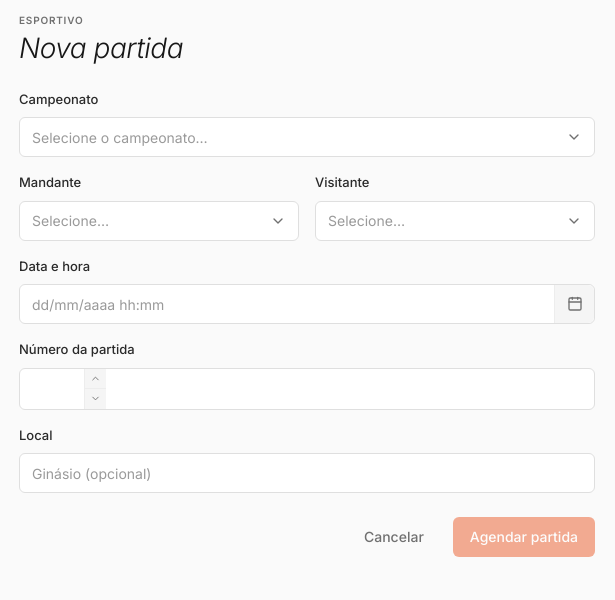
Test: MatchFormPage create › shows an inline error on both sides and disables submit when they pick the same team
This screenshot has width=615, height=600.
Click the button labelled "Selecione o campeonato…" at [120, 137], box [19,117,595,157]
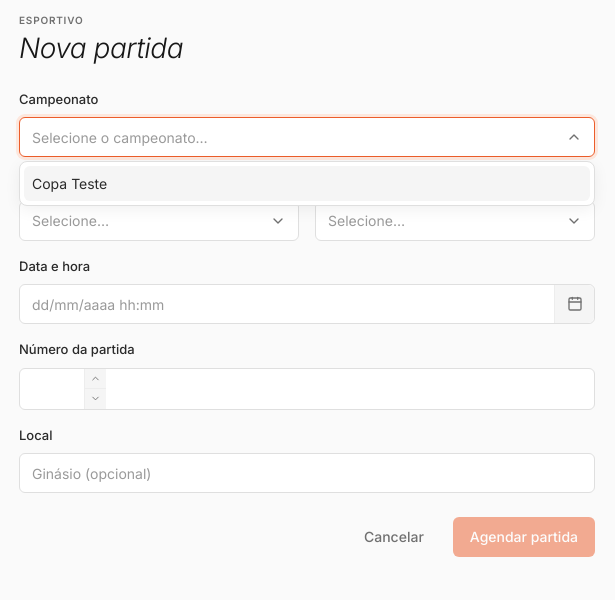
Click the option "Copa Teste" at [70, 184], box [24,166,590,201]
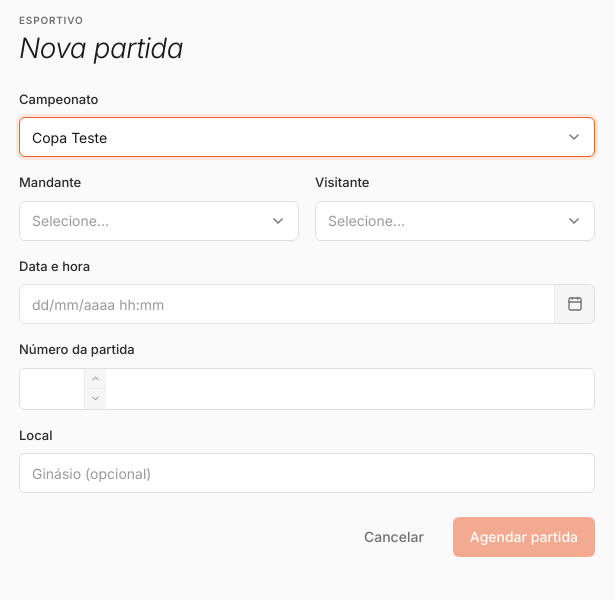
Click the button named "mandante" at [71, 221], box [19,201,299,241]
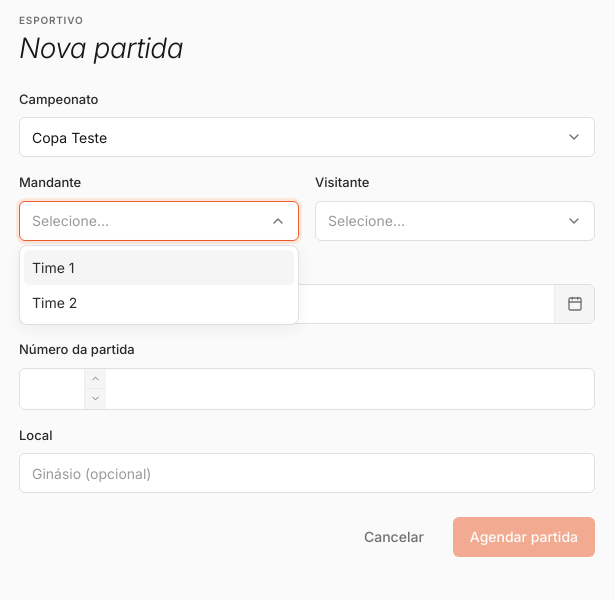
Click the option "Time 1" at [53, 267], box [24,250,294,285]
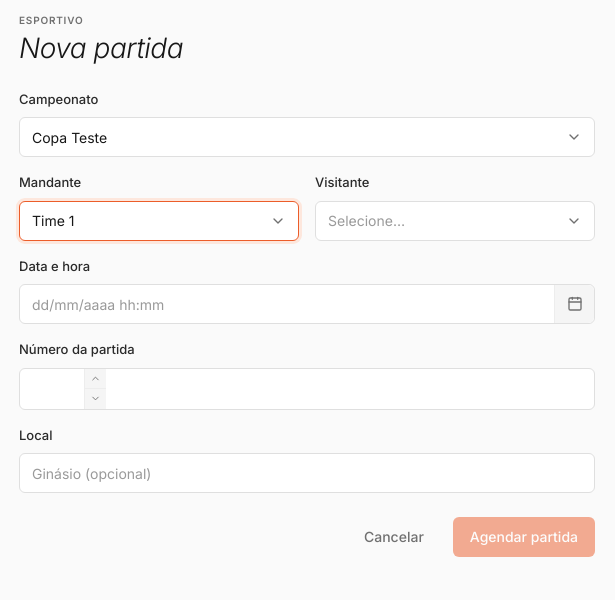
Click the button named "visitante" at [367, 221], box [315,201,595,241]
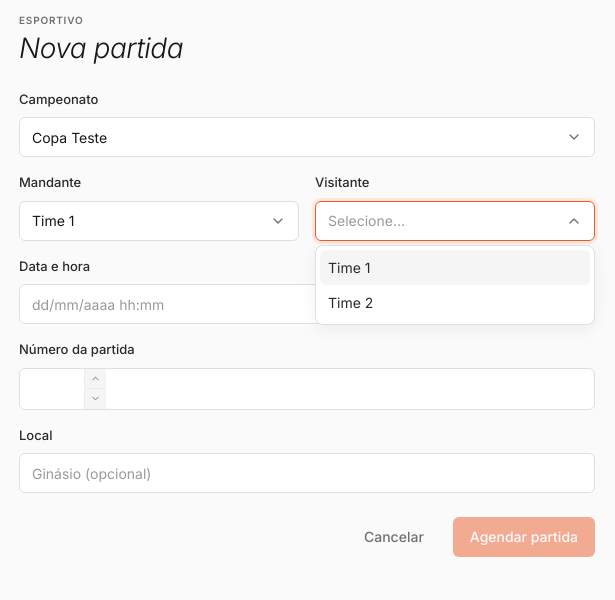
Click the option "Time 1" at [349, 267], box [320,250,590,285]
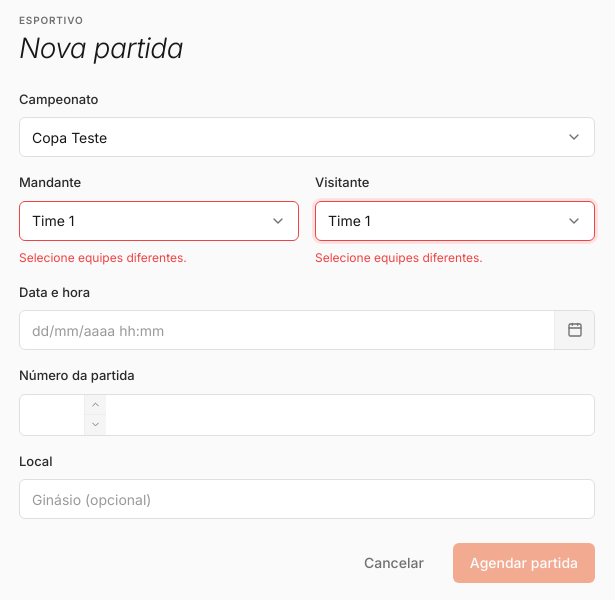
Expected: the button "Agendar partida" is disabled, [453,543,595,583]
Now the text "Selecione equipes diferentes." is shown 2 times, box [19,250,187,265]; [315,250,483,265]
